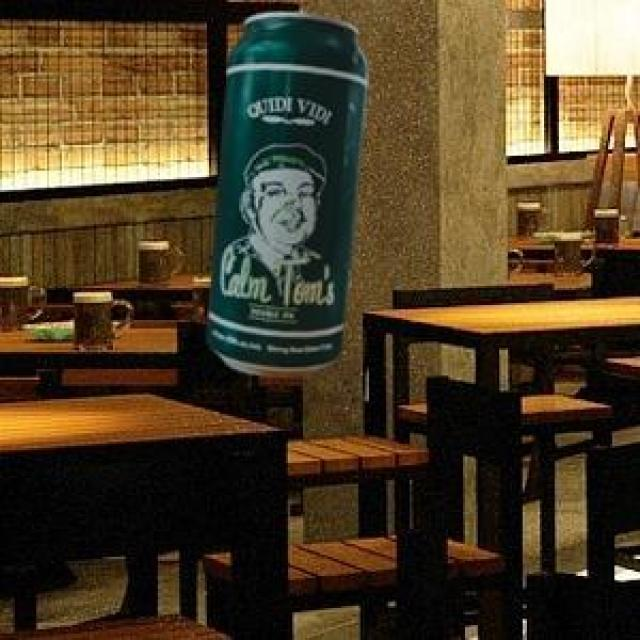Can: (204, 10, 364, 374)
